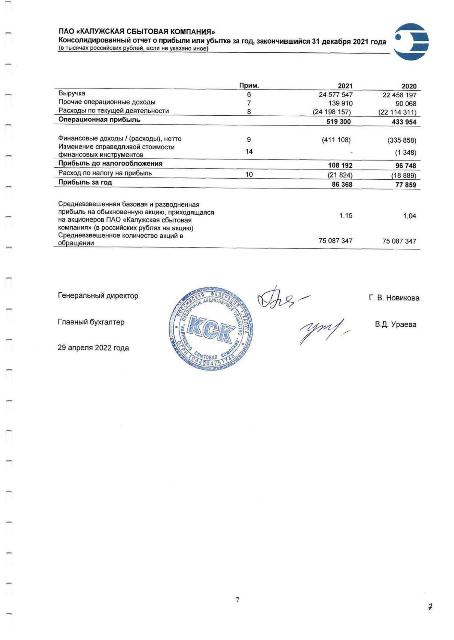stamp: (167, 288, 251, 372)
